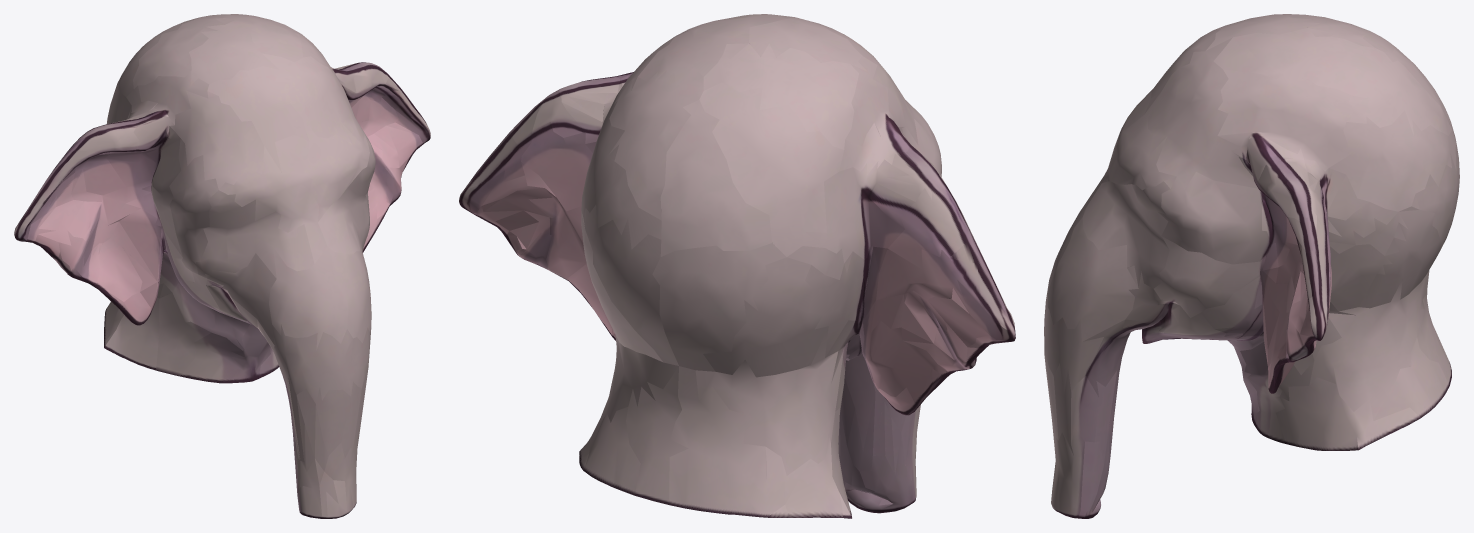
The model's file is thalor_m-tete.glb.
3 renders of one model, left to right at view 1: azimuth 30°, elevation 25°; view 2: azimuth 150°, elevation 25°; view 3: azimuth 270°, elevation 25°, orthographic. The views are drawn at different scales.
Visible parts, largest first — view 1: geometry_0; view 2: geometry_0; view 3: geometry_0.
Boxes of the visible parts, <box> form: geometry_0: <box>14,14,430,518</box>; geometry_0: <box>459,14,1015,518</box>; geometry_0: <box>1044,14,1459,518</box>.
Bounding box in the file's own units: 1.9 × 1.83 × 1.43.
1 material, 1 textured.
